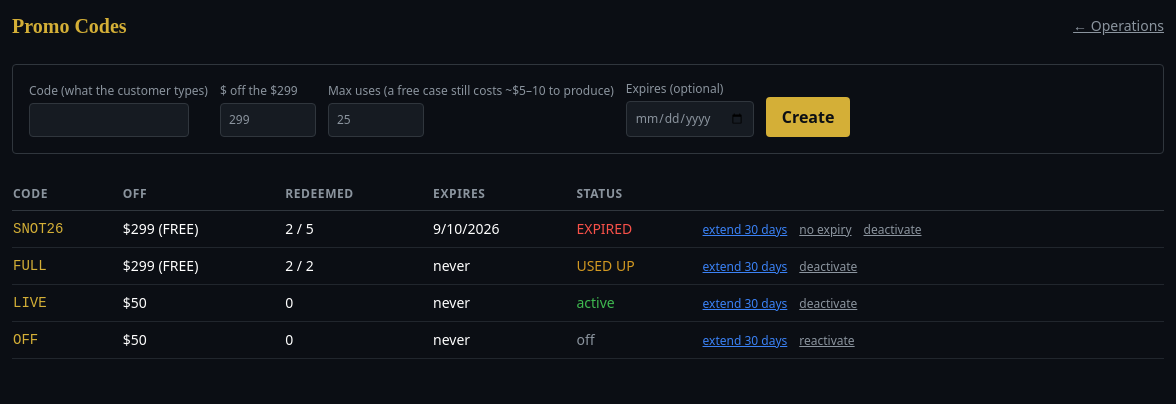
promos page › deactivate sends active:false and says so; a failed save is reported instead of silently ignored
Check: the cell with test id "promo-status-LIVE" is shown, box [575, 284, 702, 322]
Click the button "deactivate" in the row of "LIVE": (828, 304) [799, 296, 857, 312]
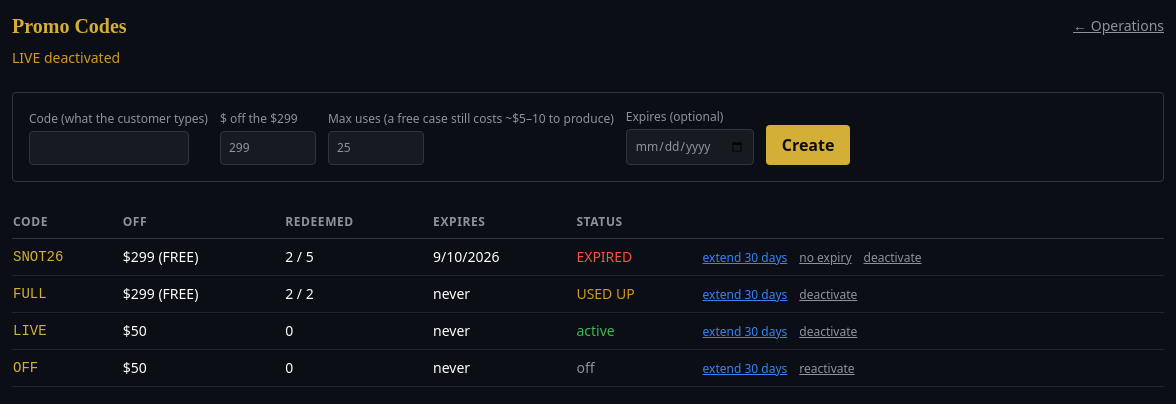
Check: the text "LIVE deactivated" is shown, box [12, 48, 120, 67]
Click the button "deactivate" in the row of "SNOT26": (892, 258) [864, 250, 922, 266]
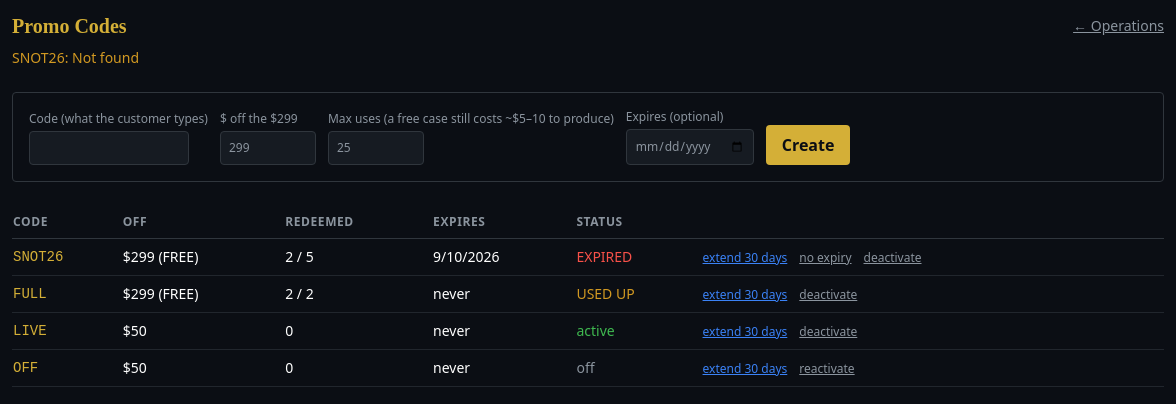
Check: the text "SNOT26: Not found" is shown, box [12, 48, 139, 67]
